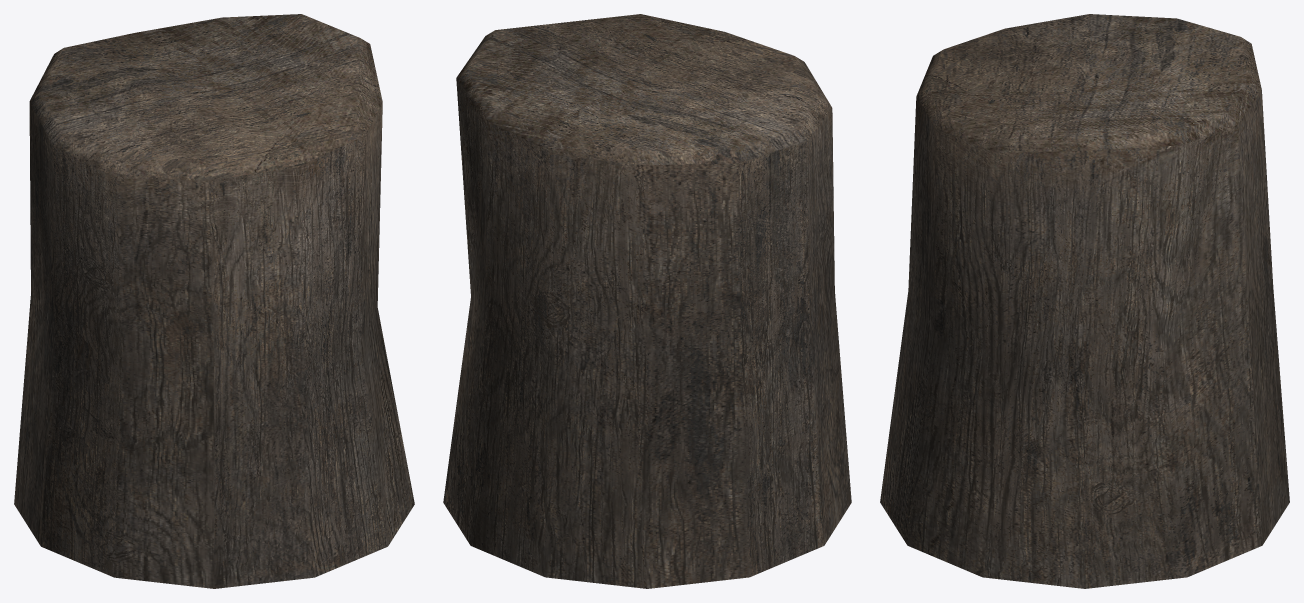
File: Logpile_3.FBX
The picture shows the model from 3 angles, left to right: view 1: azimuth 30°, elevation 25°; view 2: azimuth 150°, elevation 25°; view 3: azimuth 270°, elevation 25°; orthographic projection. The views are drawn at different scales.
Parts seen in each view (by area): view 1: mesh; view 2: mesh; view 3: mesh.
Part boxes in pixels (x1,y1,x2,y2): mesh: (14, 14, 414, 588); mesh: (443, 14, 851, 588); mesh: (880, 14, 1289, 588).
Size of the model in its own units: 48.7 by 48.7 by 57.5.
